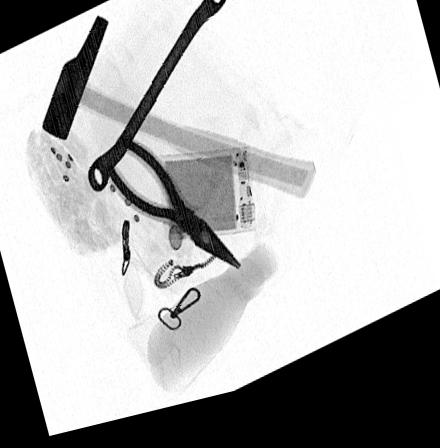Hammer: (41, 18, 314, 212)
Pliers: (104, 143, 242, 281)
Powerbank: (150, 159, 255, 245)
Wrench: (86, 0, 228, 198)
